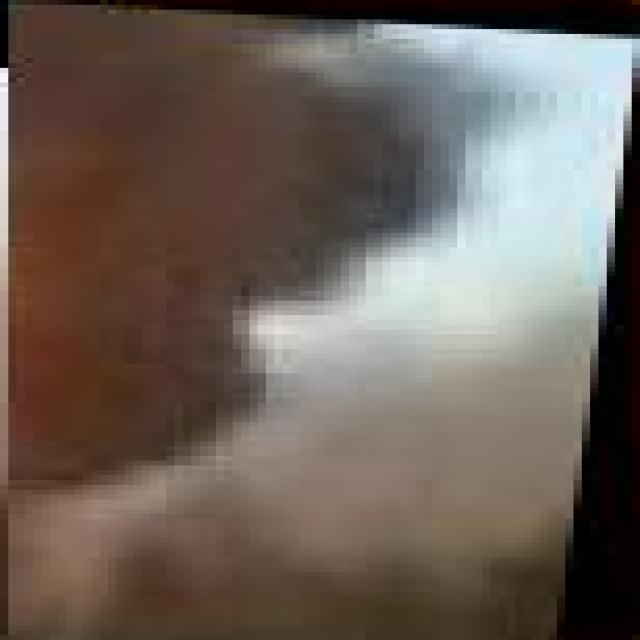smoke: (8, 0, 640, 640)
